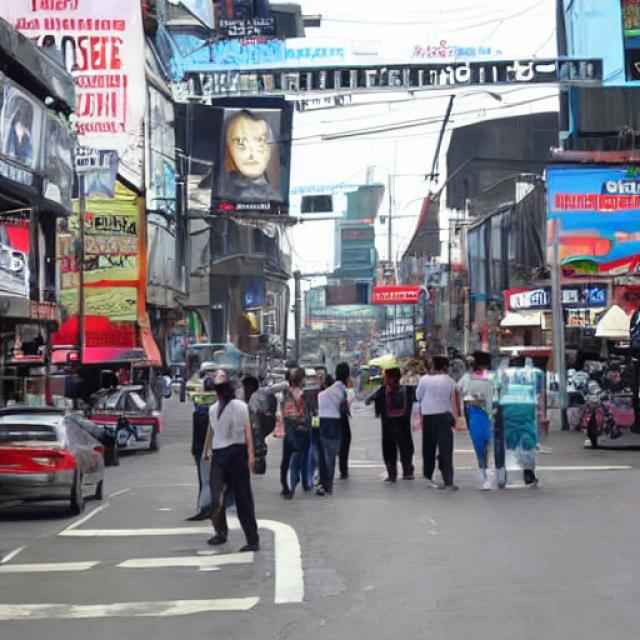Billboard: (211, 99, 290, 216)
